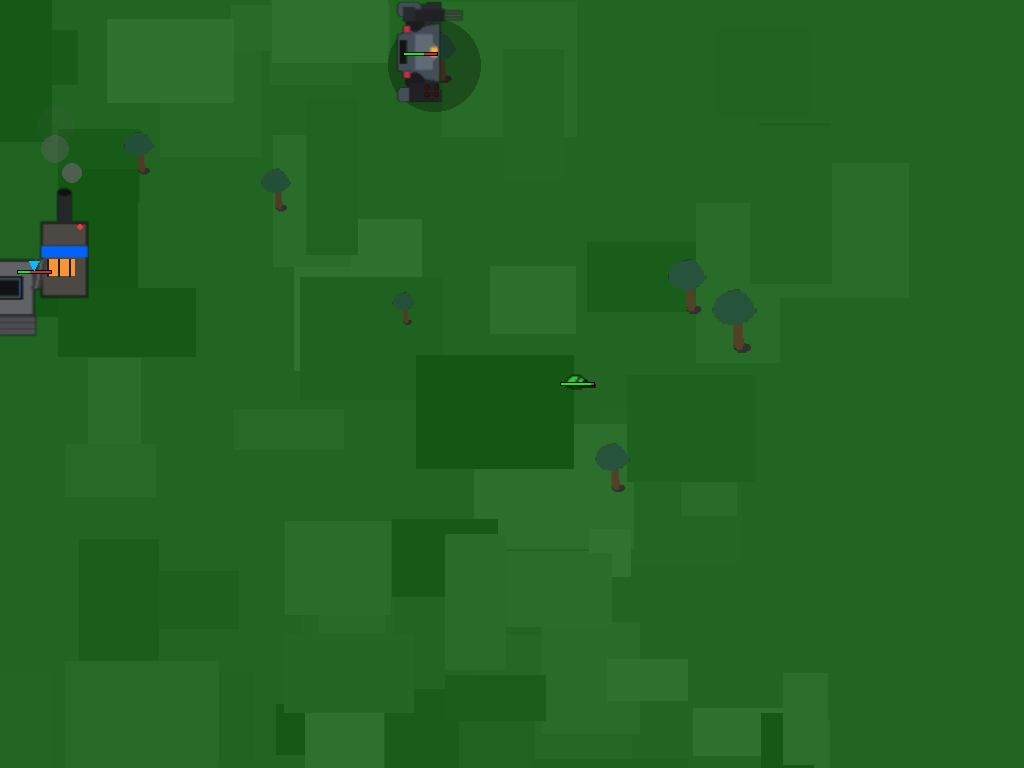HeavyMech: (386, 16, 454, 84)
MiningRig: (0, 204, 129, 333)
Sniper: (557, 360, 597, 400)
